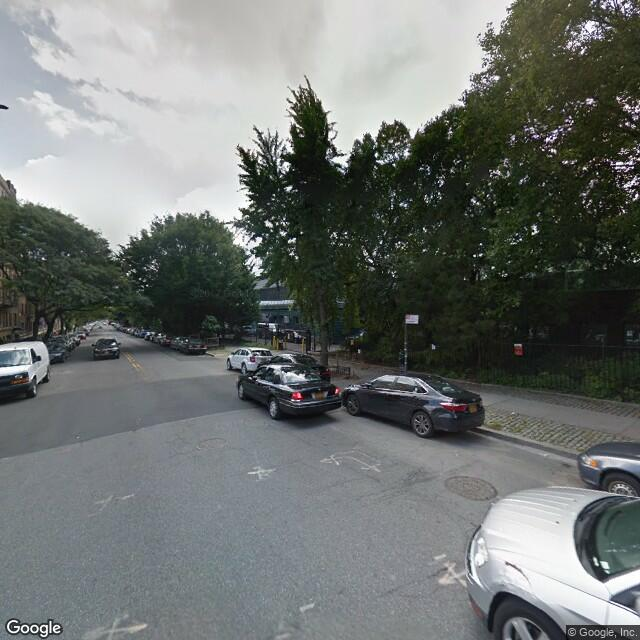litter: (508, 409, 520, 414), (540, 452, 550, 456)
